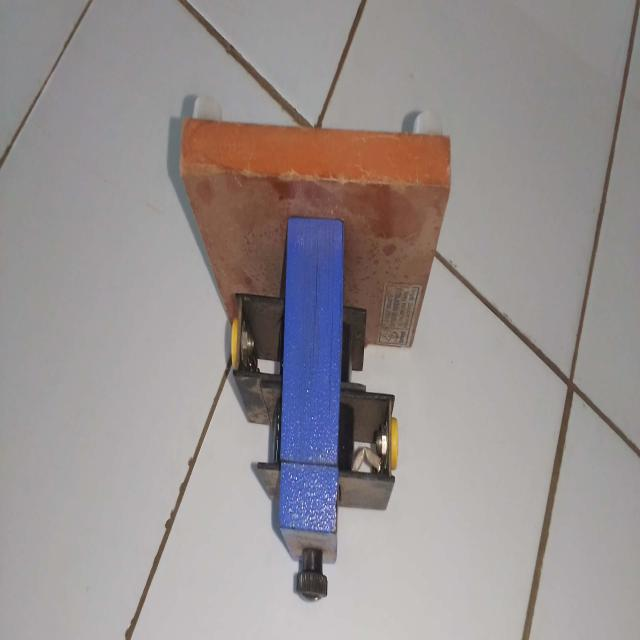Transformer Demo: (160, 99, 465, 613)
